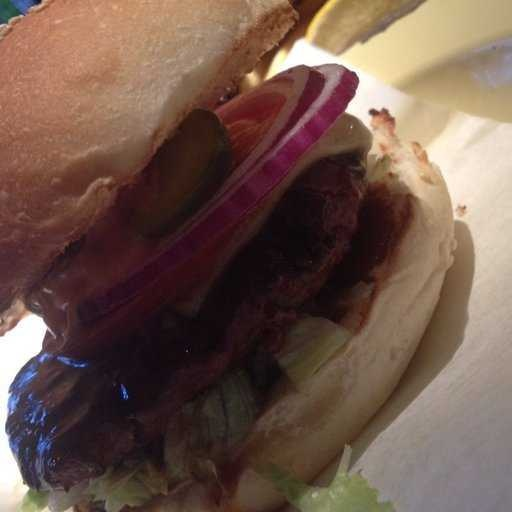hamburger: (1, 6, 479, 487)
